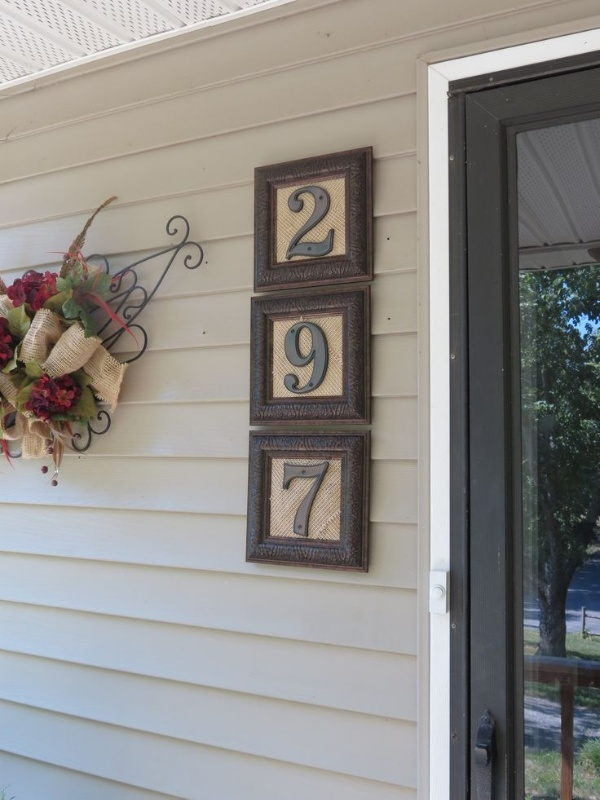text: (289, 460, 304, 539), (305, 460, 320, 539), (289, 185, 304, 262), (305, 185, 320, 262), (321, 185, 336, 262), (289, 319, 304, 395), (305, 319, 320, 395), (321, 460, 331, 539), (321, 319, 331, 395), (281, 460, 288, 539), (283, 319, 288, 395), (287, 185, 288, 262)
